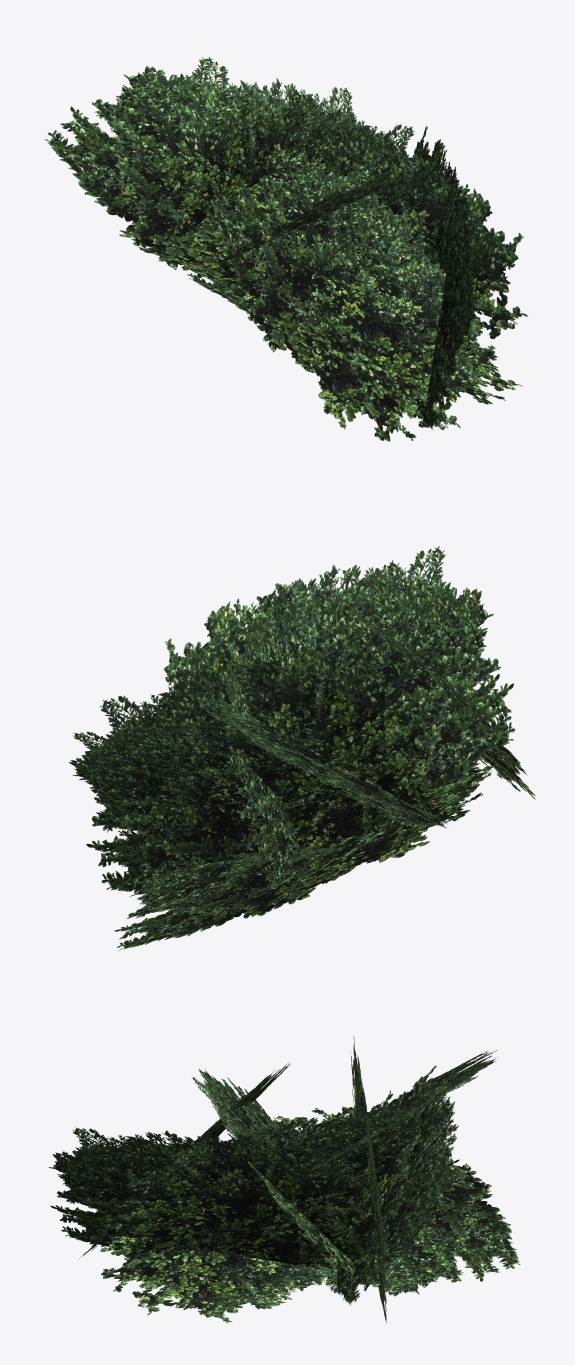
Rendered from Bush10.gltf.
3 views of the same model, one above another, from view 1: azimuth 30°, elevation 25°; view 2: azimuth 150°, elevation 25°; view 3: azimuth 270°, elevation 25° (orthographic). The views are drawn at different scales.
Visible parts, largest first — view 1: BushMed; view 2: BushMed; view 3: BushMed.
Part boxes in pixels (bbox=[...]): BushMed: bbox=[44, 57, 527, 441]; BushMed: bbox=[68, 546, 535, 950]; BushMed: bbox=[49, 1036, 520, 1323].
Size of the model in its own units: 45.31 by 33.28 by 63.44.
1 material, 1 textured.
